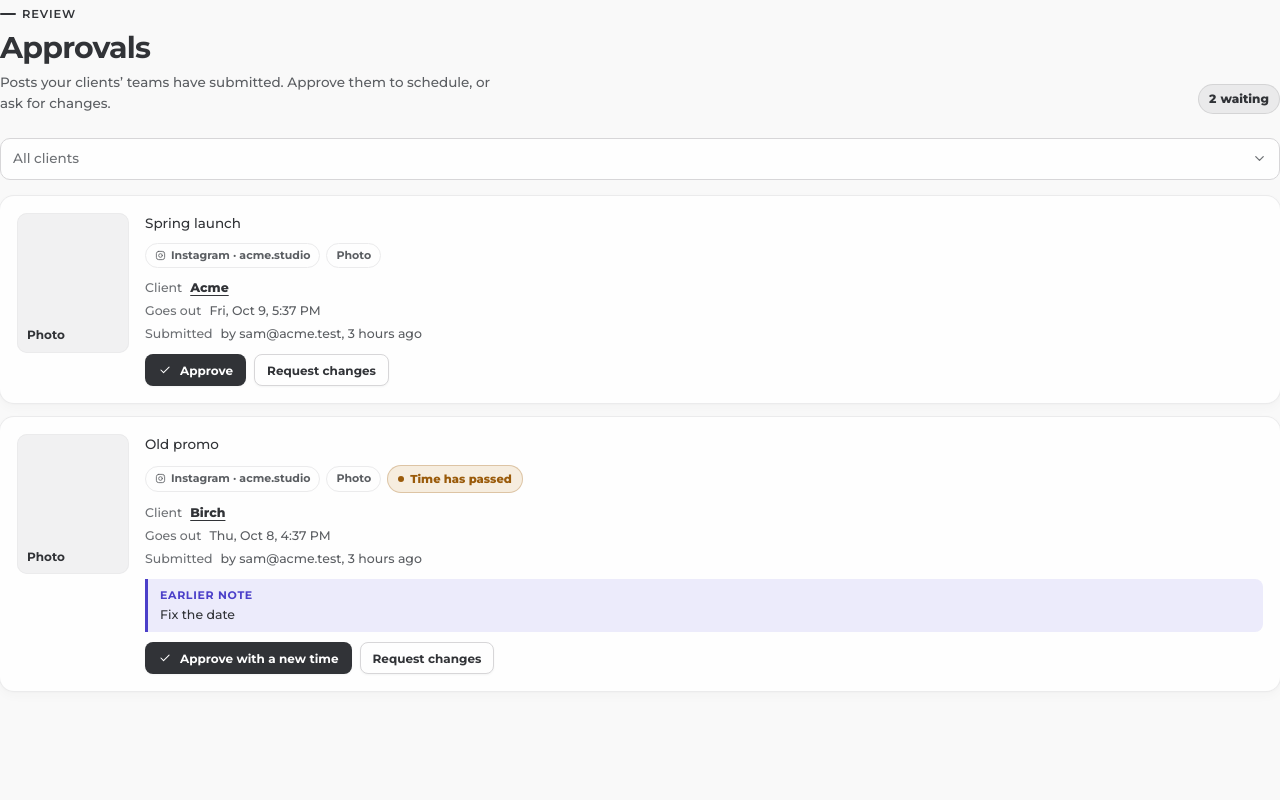
Scenario: Approvals queue › opens the time dialog when the server says the time passed meanwhile
Check: the text "Spring launch" is shown, box [145,214,241,230]
Click the button "Approve": (196, 370) [145,354,246,386]
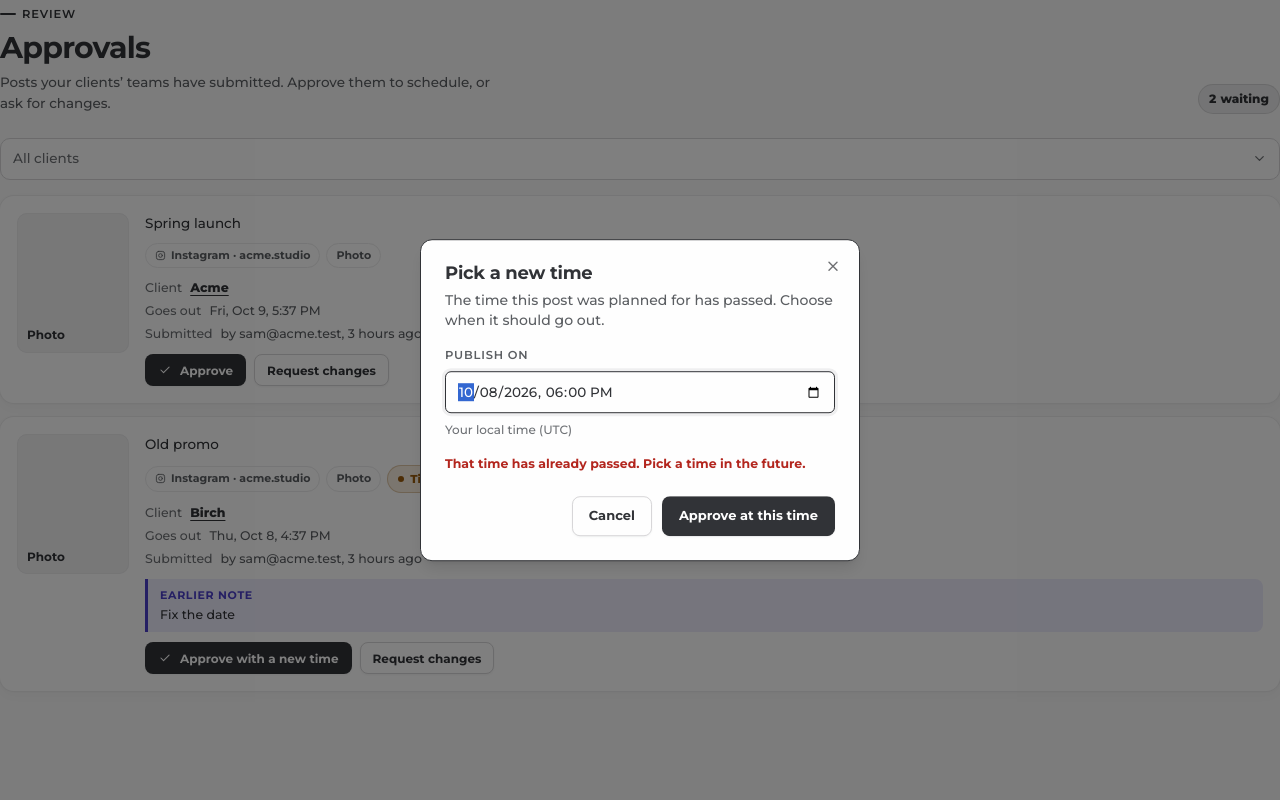
Check: the message shows "already passed", box [445,456,806,471]
